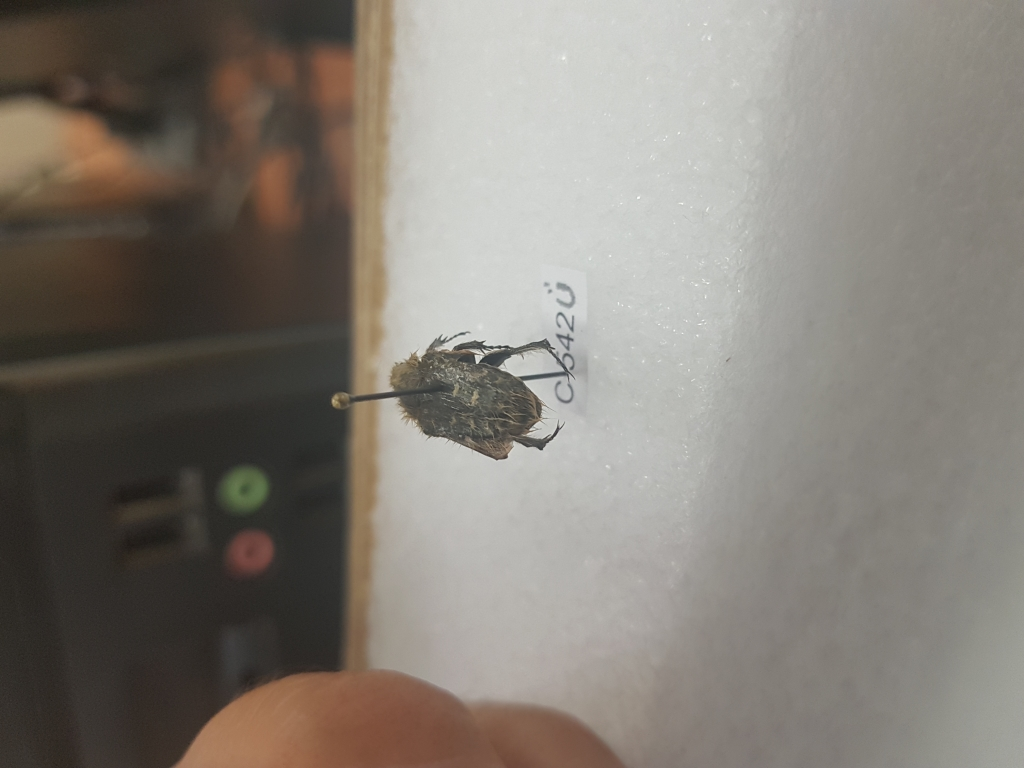Tropinota_hirta: (384, 307, 583, 458)
